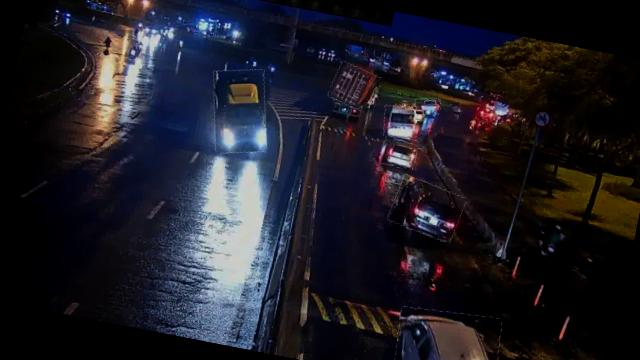Bike: (124, 38, 143, 62)
Bus: (381, 103, 418, 141)
Car: (389, 301, 505, 360), (386, 176, 466, 243), (379, 133, 419, 170), (414, 96, 442, 117)
Truck: (202, 63, 277, 160), (328, 62, 382, 112)
